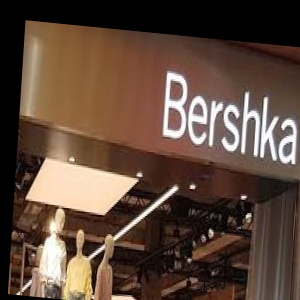bershka: (182, 48, 300, 85)
